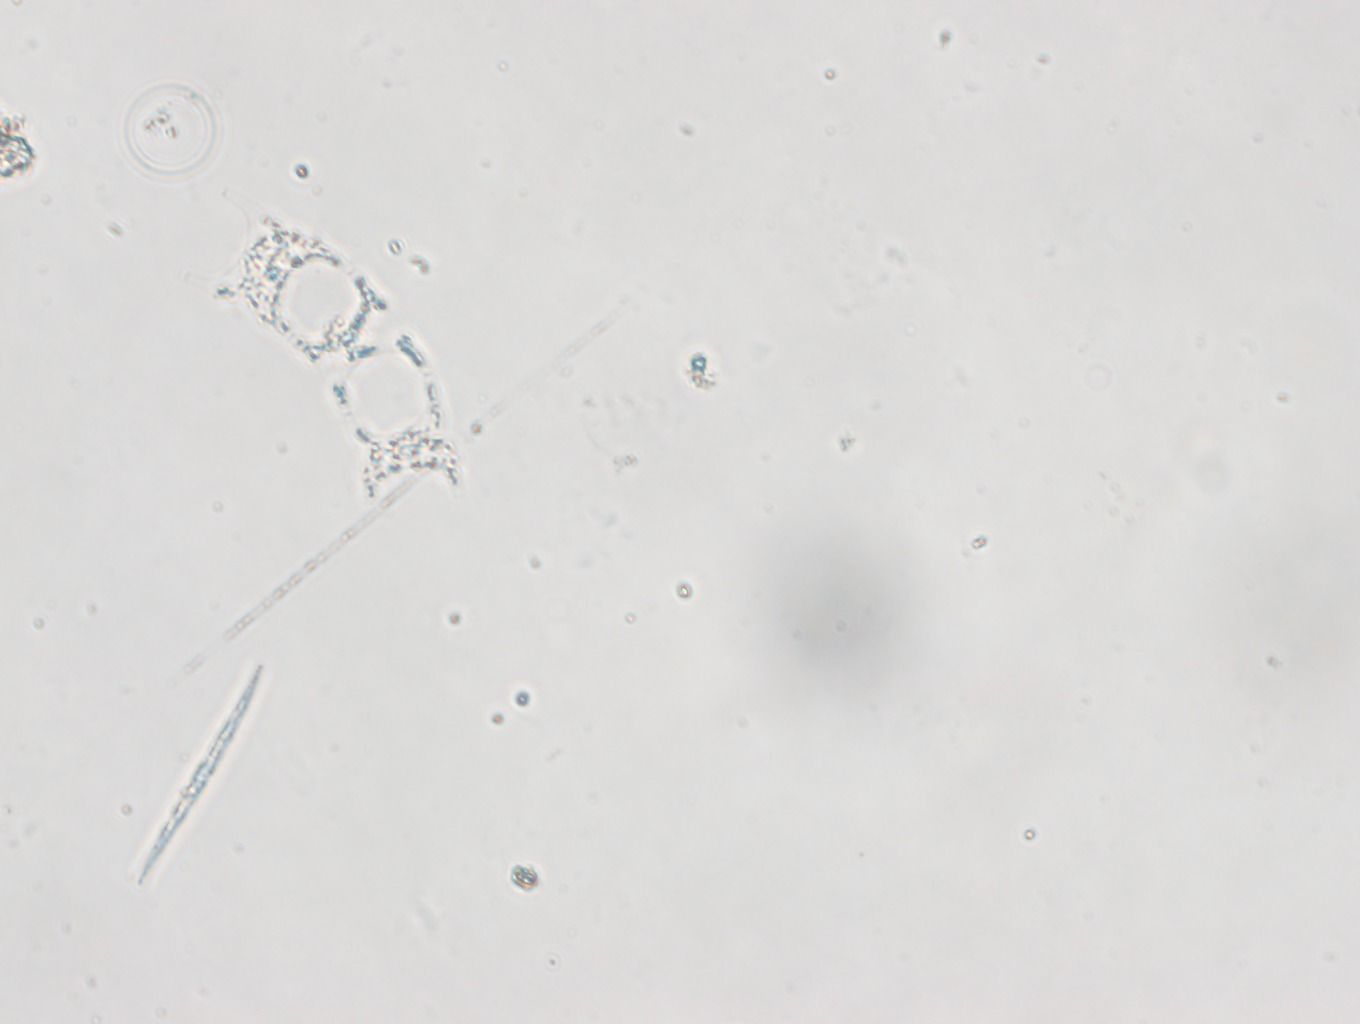eucampia: (198, 184, 482, 534)
pleurosigma pelagicum: (132, 657, 275, 885)
